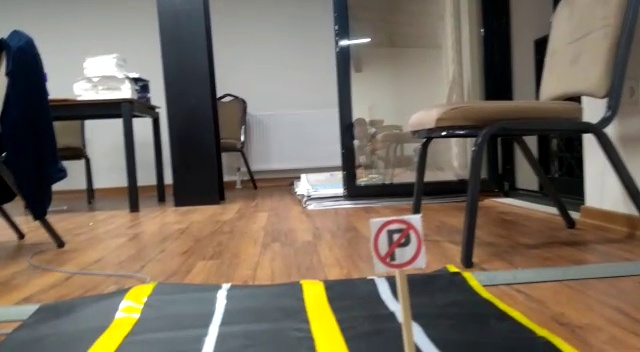park_yapilmaz: (372, 219, 425, 268)
